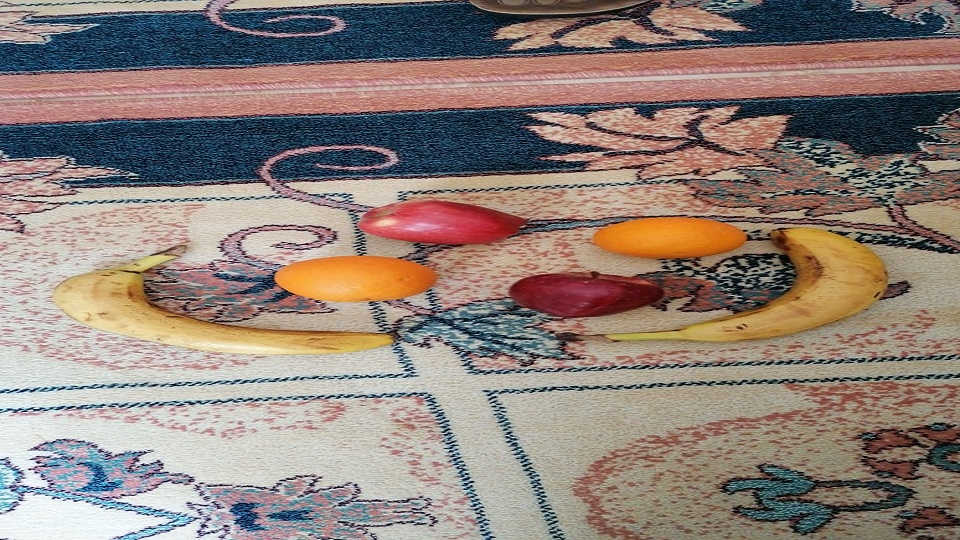elma: (356, 198, 527, 246), (508, 271, 665, 319)
muz: (51, 246, 399, 357), (586, 227, 891, 343)
portakal: (274, 255, 438, 302), (591, 215, 749, 260)
